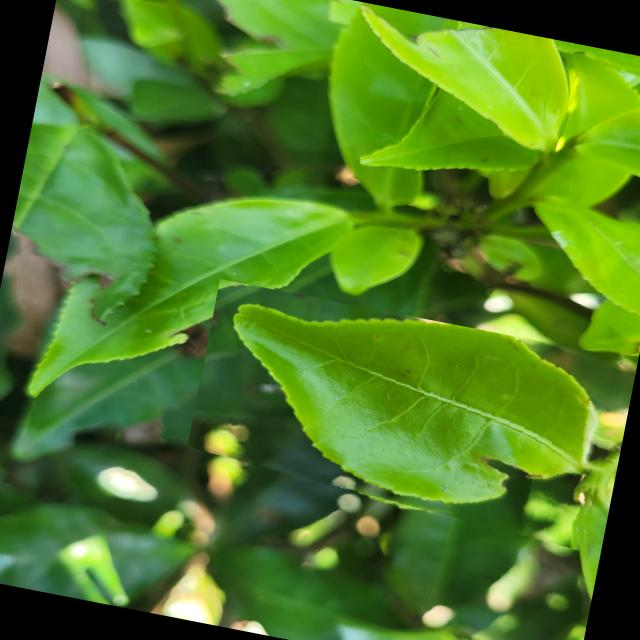Catagory A(1-2 days): (182, 279, 626, 552)
